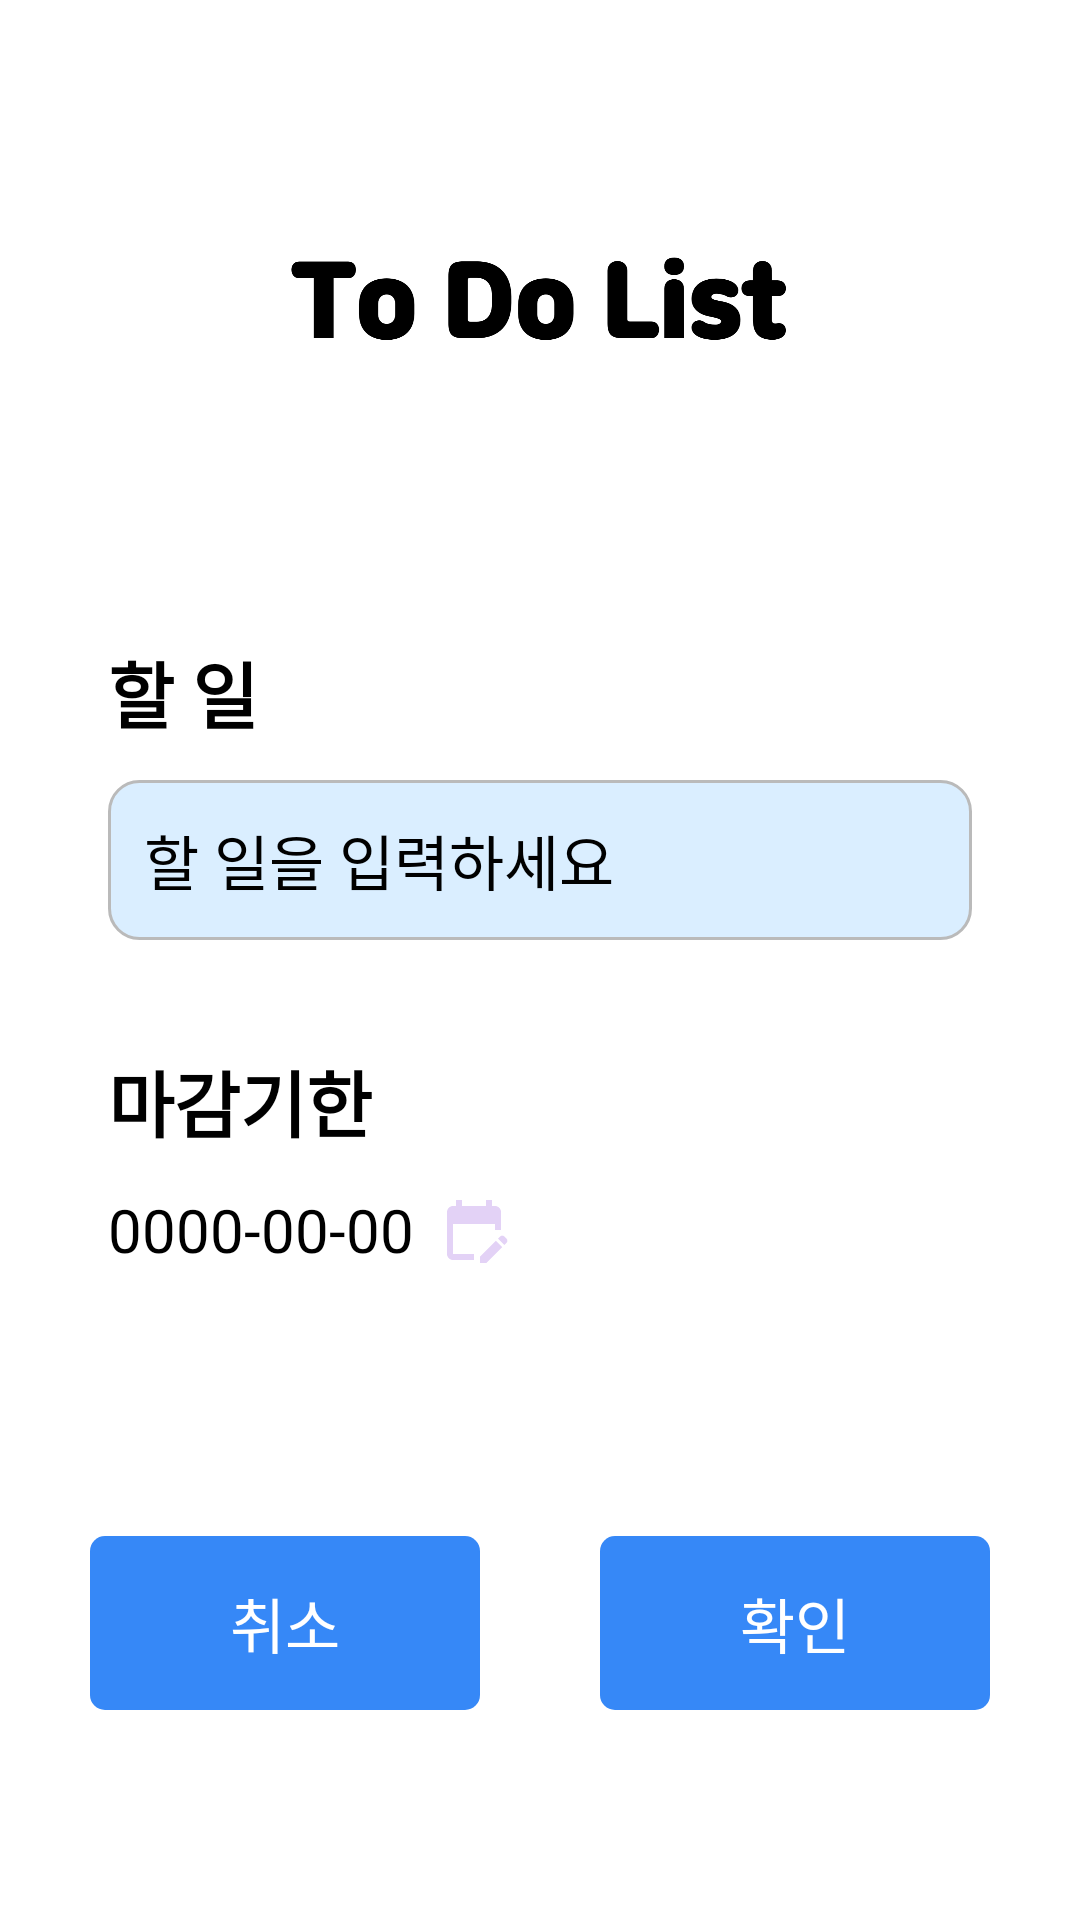

Named icons in this screenshot (1080 × 1920) and their centers, [x,y]:
edit calendar: [477,1231]
